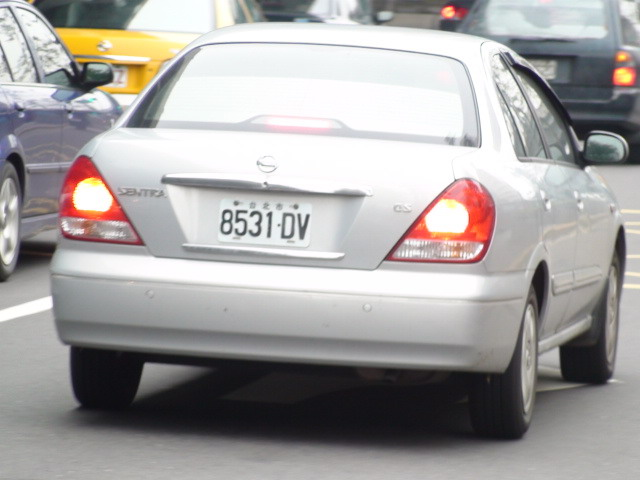plate: (217, 195, 314, 252)
